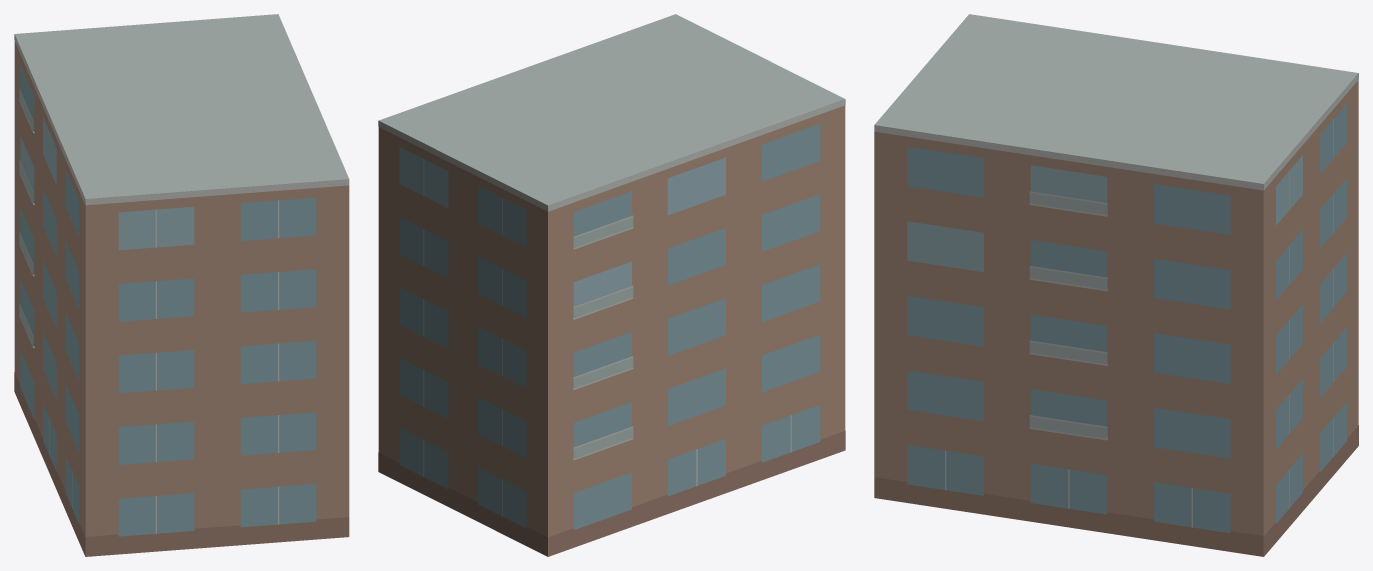
Rendered from survey-upis-32885789.glb.
3 views of the same model, side by side, from view 1: azimuth 30°, elevation 25°; view 2: azimuth 150°, elevation 25°; view 3: azimuth 270°, elevation 25° (orthographic). The views are drawn at different scales.
Parts seen in each view (by area): view 1: survey-upis-32885789.tmp; view 2: survey-upis-32885789.tmp; view 3: survey-upis-32885789.tmp.
Boxes of the visible parts, x1,y1,x2,y2 form: survey-upis-32885789.tmp: (14,14,349,556); survey-upis-32885789.tmp: (378,14,845,556); survey-upis-32885789.tmp: (874,14,1358,556).
Bounding box in the file's own units: 13.6 × 13.9 × 16.38.
